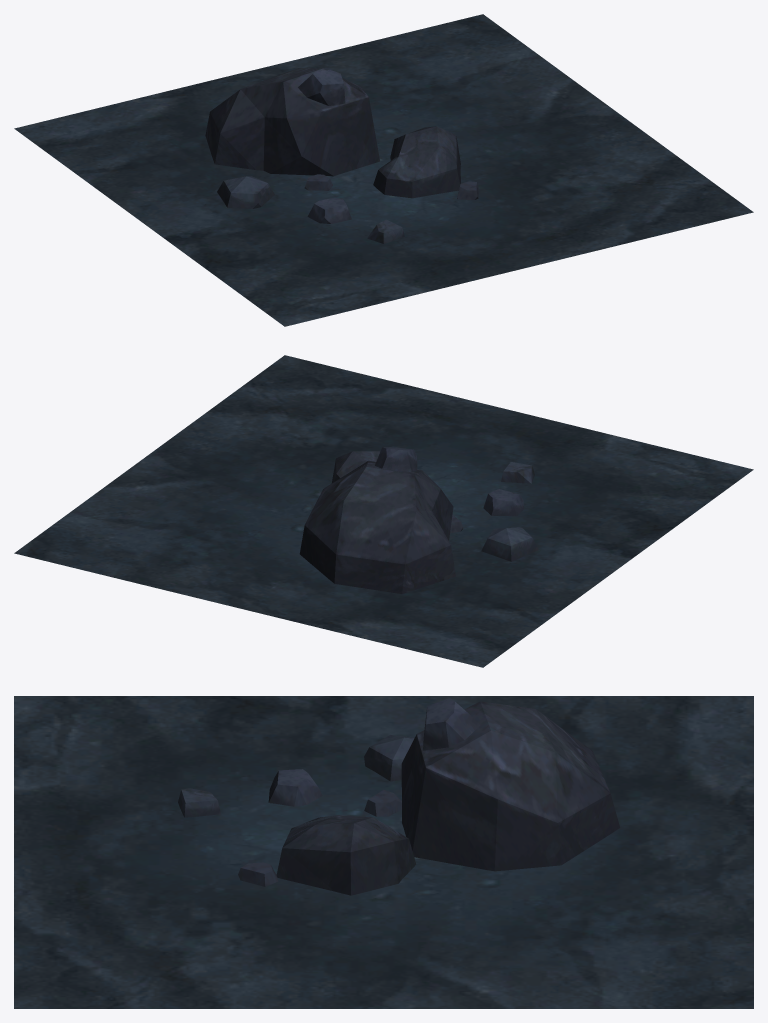
File: mine_rubble_04.fbx
3 views of the same model, one above another, from view 1: azimuth 30°, elevation 25°; view 2: azimuth 150°, elevation 25°; view 3: azimuth 270°, elevation 25° (orthographic). The views are drawn at different scales.
Parts seen in each view (by area): view 1: obj1.038; view 2: obj1.038; view 3: obj1.038.
Boxes of the visible parts, <box> form: obj1.038: <box>14,14,753,326</box>; obj1.038: <box>14,355,753,667</box>; obj1.038: <box>14,696,753,1008</box>.
Bounding box in the file's own units: 4 × 0.7884 × 4.
